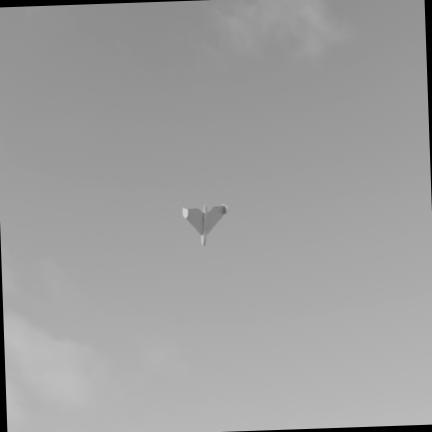Shahed: (182, 203, 228, 246)
